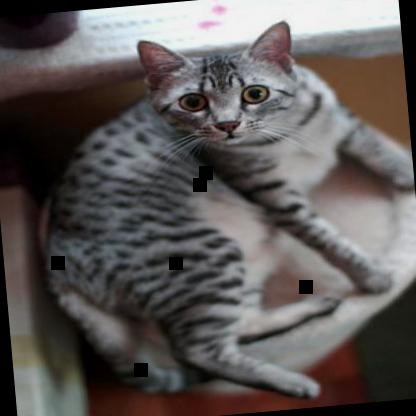cat: (22, 10, 415, 415)
